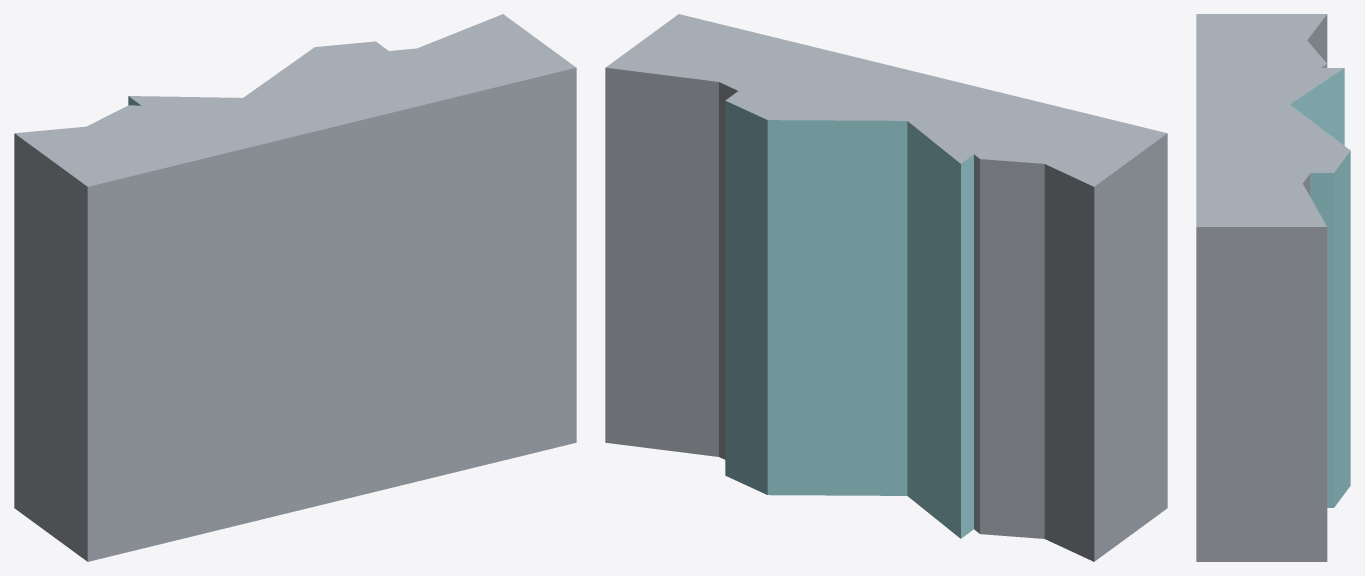
Rendered from naturePack_143.obj.
The picture shows the model from 3 angles, left to right: view 1: azimuth 30°, elevation 25°; view 2: azimuth 150°, elevation 25°; view 3: azimuth 270°, elevation 25°; orthographic projection. The views are drawn at different scales.
Visible parts, largest first — view 1: Mesh1_Grey_Waterfall_Model; view 2: Mesh1_Grey_Waterfall_Model; view 3: Mesh1_Grey_Waterfall_Model.
Part boxes in pixels (x1,y1,x2,y2): Mesh1_Grey_Waterfall_Model: (14, 14, 576, 561); Mesh1_Grey_Waterfall_Model: (605, 14, 1167, 561); Mesh1_Grey_Waterfall_Model: (1196, 14, 1350, 561).
Bounding box in the file's own units: 3 × 2.2 × 0.92.
